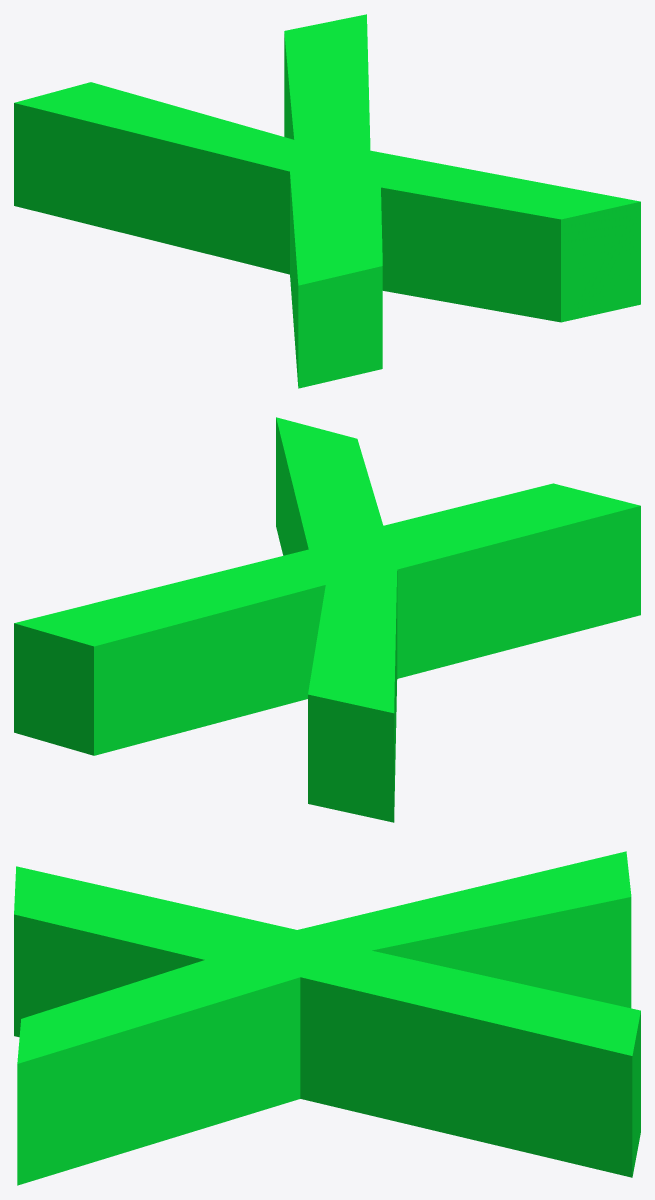
File: LetterX.obj
The picture shows the model from 3 angles, top to bottom: view 1: azimuth 30°, elevation 25°; view 2: azimuth 150°, elevation 25°; view 3: azimuth 270°, elevation 25°; orthographic projection. The views are drawn at different scales.
Visible parts, largest first — view 1: LetterX; view 2: LetterX; view 3: LetterX.
Boxes of the visible parts, <box> form: LetterX: <box>14,14,640,388</box>; LetterX: <box>14,417,640,822</box>; LetterX: <box>14,851,640,1185</box>.
Size of the model in its own units: 3.75 by 1 by 4.67.
